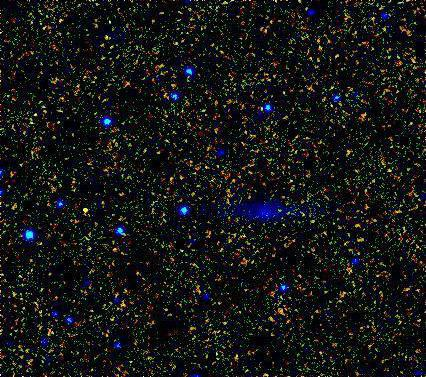star: (70, 195, 100, 225)
